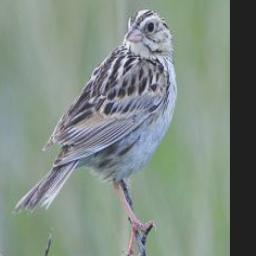Sparrow: (11, 8, 177, 256)
